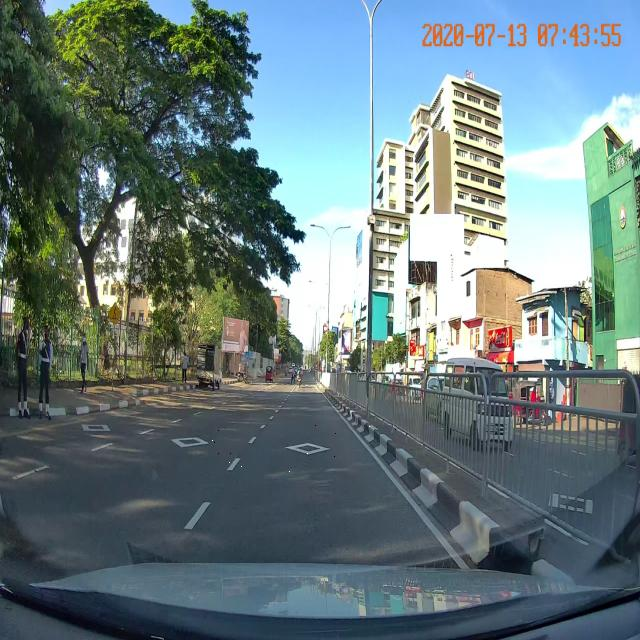diamond: (211, 426, 397, 477)
